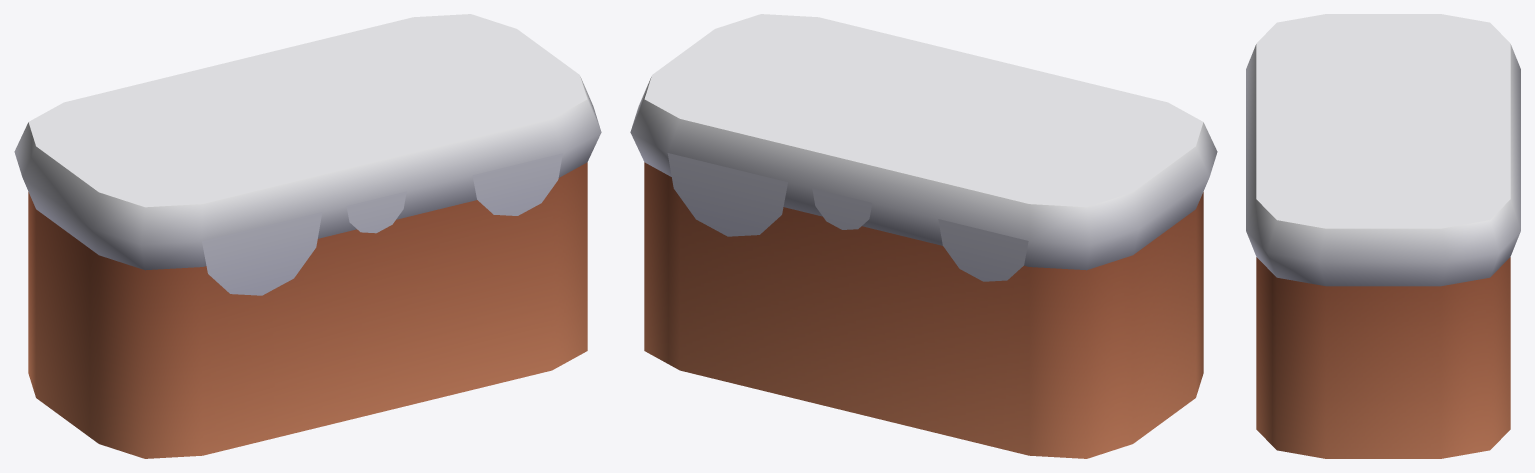
File: block-snow-overhang-long.glb
3 renders of one model, left to right at view 1: azimuth 30°, elevation 25°; view 2: azimuth 150°, elevation 25°; view 3: azimuth 270°, elevation 25°, orthographic. The views are drawn at different scales.
Parts seen in each view (by area): view 1: block-snow-overhang-long; view 2: block-snow-overhang-long; view 3: block-snow-overhang-long.
Part boxes in pixels (box(x1,y1,x2,y2)): block-snow-overhang-long: box(14, 14, 601, 458); block-snow-overhang-long: box(630, 14, 1217, 458); block-snow-overhang-long: box(1246, 14, 1520, 458).
Size of the model in its own units: 2.08 by 1 by 1.08.
1 material, 1 textured.
